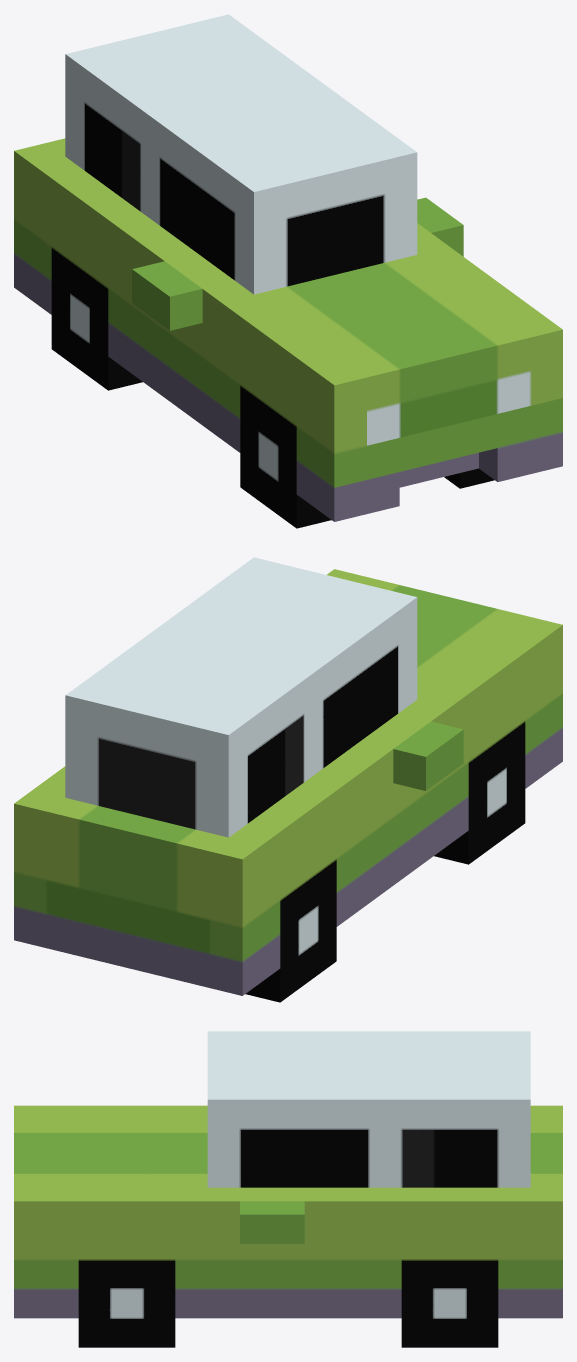
The model's file is GreenCar.fbx.
The picture shows the model from 3 angles, top to bottom: view 1: azimuth 30°, elevation 25°; view 2: azimuth 150°, elevation 25°; view 3: azimuth 270°, elevation 25°; orthographic projection. The views are drawn at different scales.
Visible parts, largest first — view 1: Wagon; view 2: Wagon; view 3: Wagon.
Part boxes in pixels (x1,y1,x2,y2): Wagon: [14, 14, 562, 528]; Wagon: [14, 557, 562, 1002]; Wagon: [14, 1031, 562, 1347].
Bounding box in the file's own units: 108 × 96 × 204.
